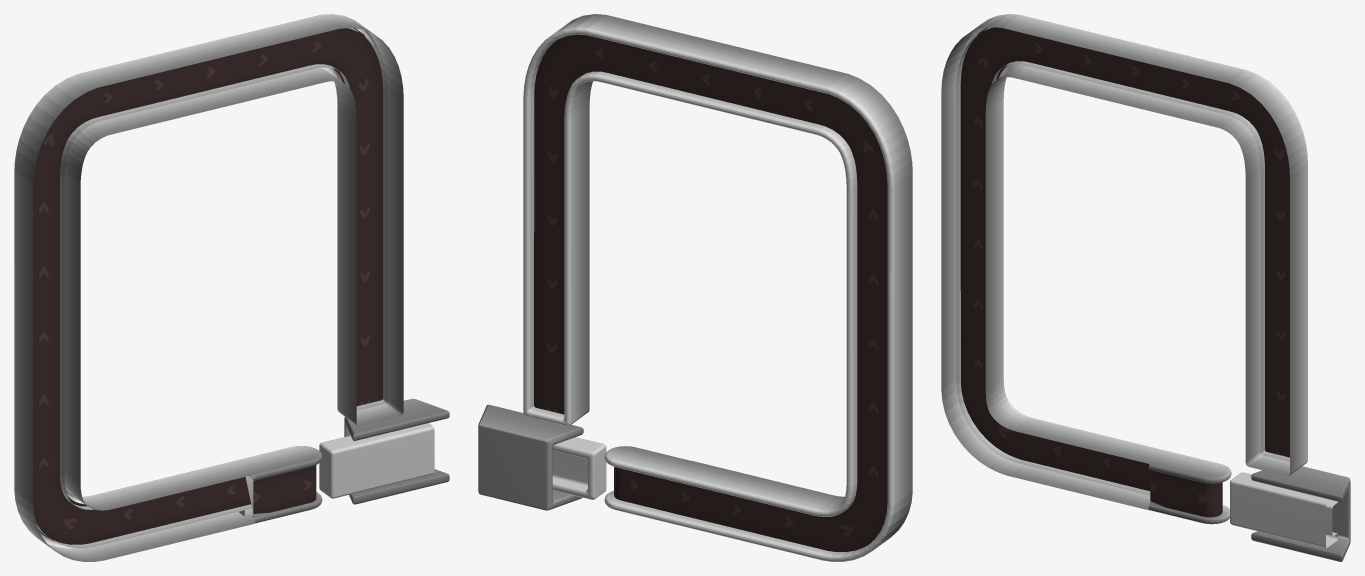
File: Map.fbx
The picture shows the model from 3 angles, left to right: view 1: azimuth 30°, elevation 25°; view 2: azimuth 150°, elevation 25°; view 3: azimuth 330°, elevation 25°; orthographic projection. The views are drawn at different scales.
Visible parts, largest first — view 1: Road, extracted_01, Khay, Ham1; view 2: Road, extracted_01, Ham1, Khay; view 3: Road, extracted_01, Khay, Ham1.
Boxes of the visible parts, box(x1,y1,x2,y2) form: Road: box(14, 14, 403, 561); extracted_01: box(33, 28, 382, 544); Khay: box(319, 423, 434, 498); Ham1: box(344, 398, 449, 504); Road: box(523, 14, 912, 561); extracted_01: box(534, 34, 887, 551); Ham1: box(478, 404, 583, 510); Khay: box(552, 437, 606, 499); Road: box(941, 14, 1307, 524); extracted_01: box(960, 27, 1289, 517); Khay: box(1230, 472, 1338, 547); Ham1: box(1251, 466, 1350, 561).
Bounding box in the file's own units: 561 × 617 × 65.1.
